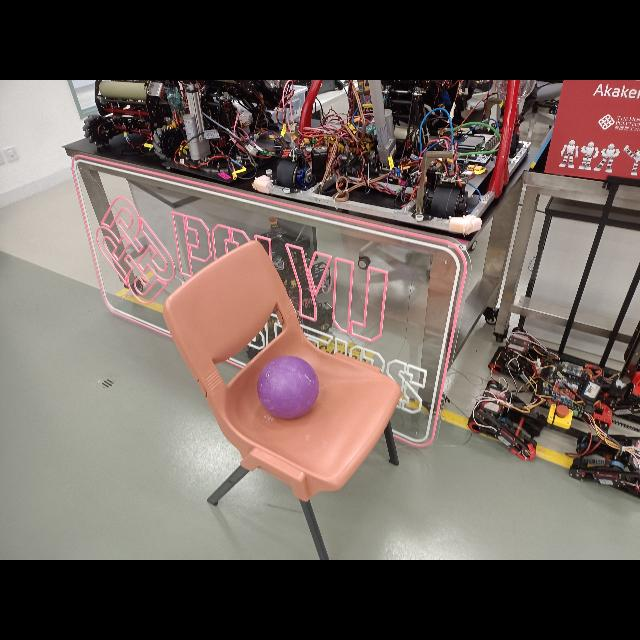P: (257, 356, 319, 420)
